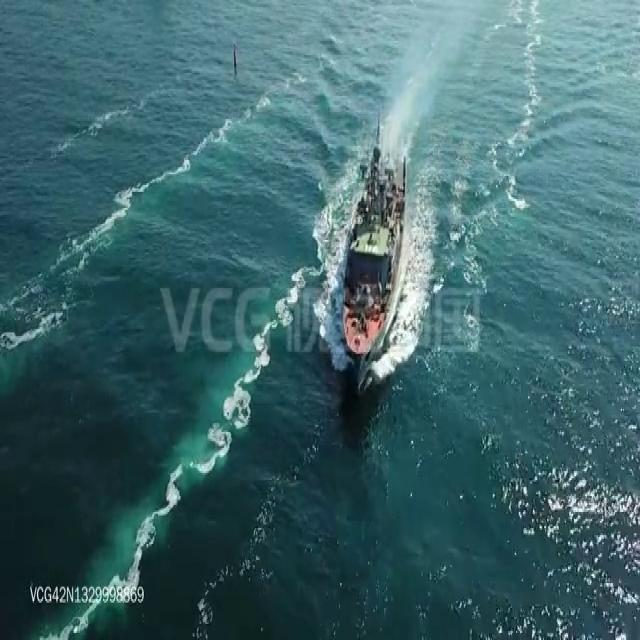navalvessels: (342, 106, 409, 363)
